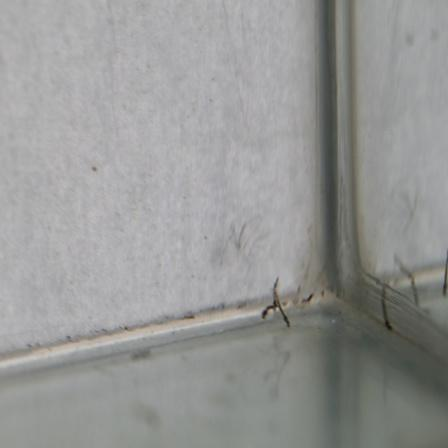Jentik-Nyamuk: (257, 274, 292, 329), (376, 282, 394, 335)
